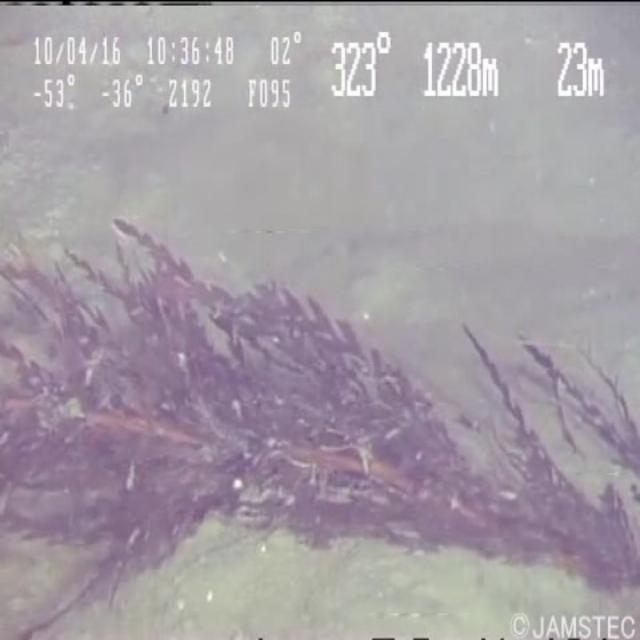Natual-Debris: (1, 201, 640, 640)
